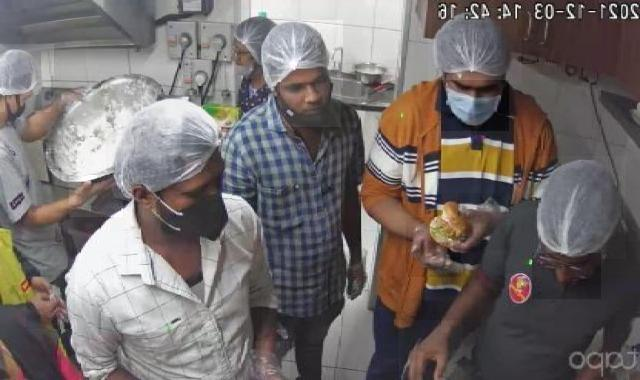apron: (402, 320, 451, 380), (409, 216, 456, 278), (338, 246, 383, 306), (464, 192, 507, 253), (246, 348, 289, 380)
gloves: (115, 102, 216, 205), (538, 149, 632, 256), (430, 8, 518, 82), (260, 20, 338, 88), (0, 47, 48, 102), (225, 11, 275, 53)
hairnet: (271, 91, 344, 132), (225, 51, 257, 79)
mask: (156, 200, 250, 247), (438, 84, 508, 128), (4, 96, 34, 128)
no_apron: (61, 180, 114, 212)
